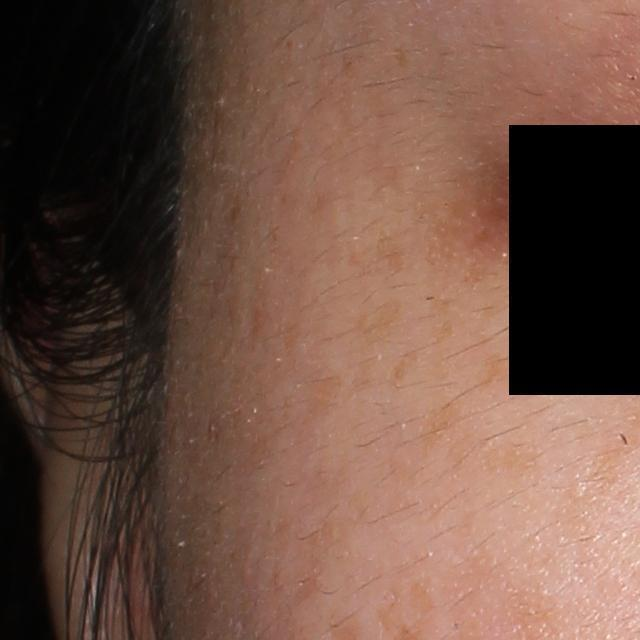melasma: (383, 345, 427, 390), (476, 346, 524, 386), (418, 397, 458, 443)
